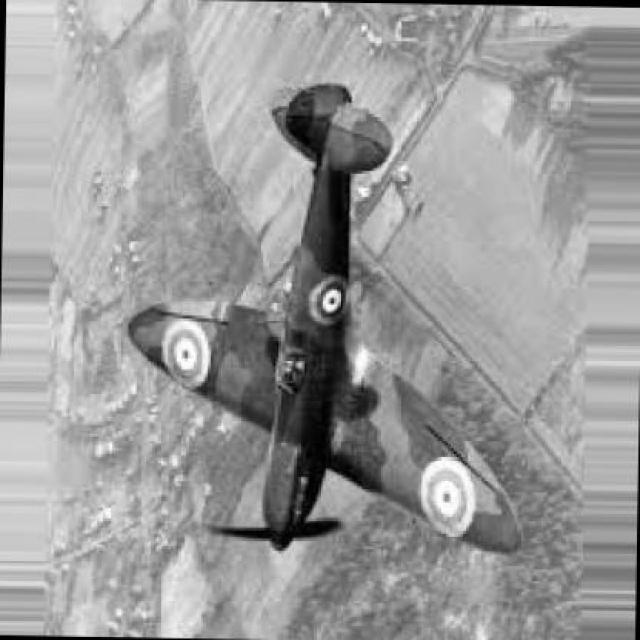iha: (119, 33, 529, 611)
